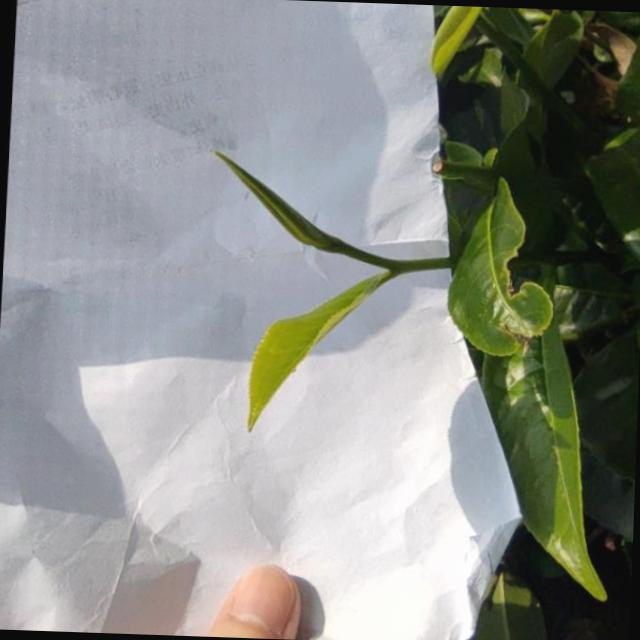Stem: (393, 256, 429, 274)
